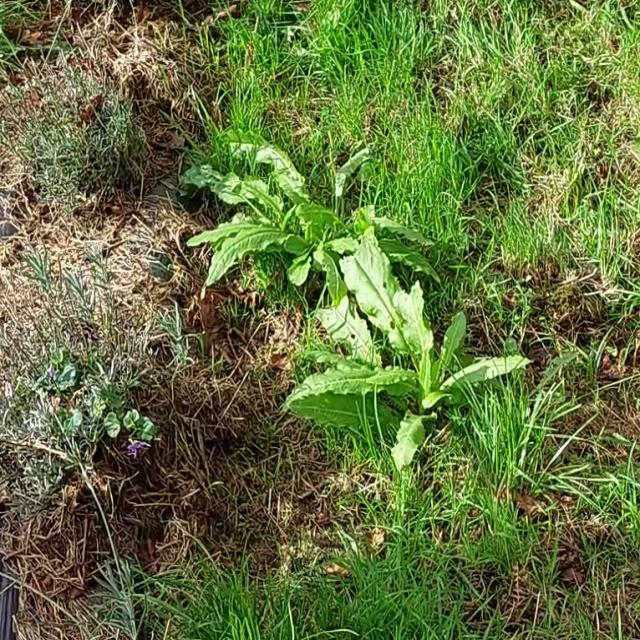organic waste: (274, 254, 509, 467), (180, 124, 420, 320)
